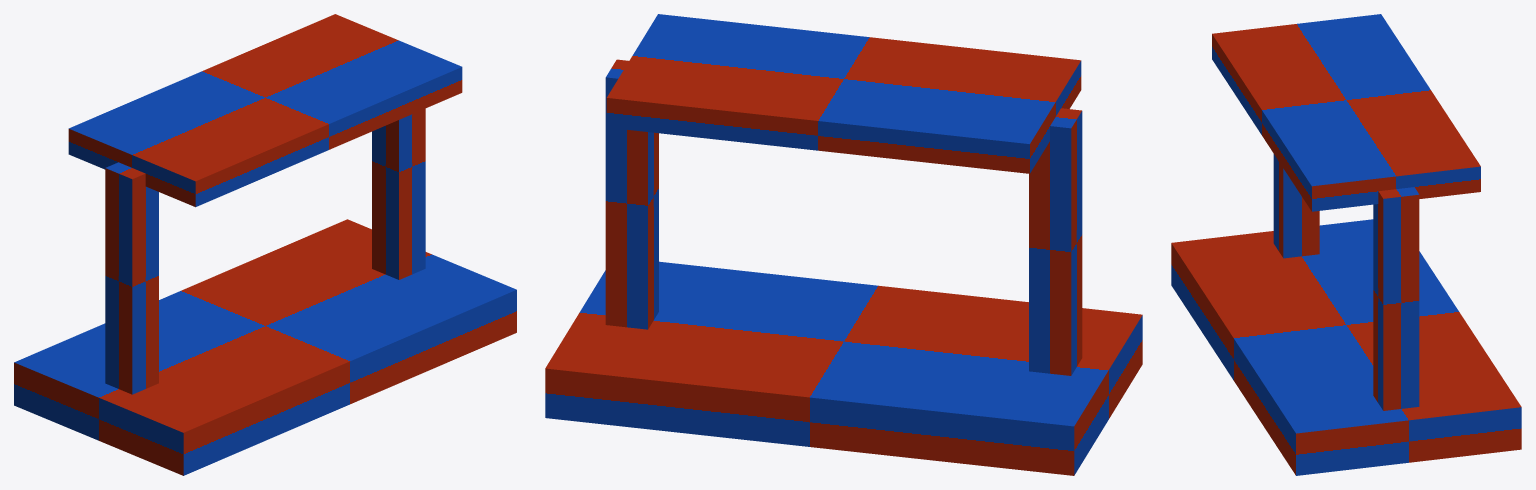
The model's file is assembly.glb.
The picture shows the model from 3 angles, left to right: view 1: azimuth 30°, elevation 25°; view 2: azimuth 150°, elevation 25°; view 3: azimuth 270°, elevation 25°; orthographic projection. The views are drawn at different scales.
Parts seen in each view (by area): view 1: Base, Lid, Post_A, Post_B; view 2: Base, Lid, Post_A, Post_B; view 3: Base, Lid, Post_B, Post_A.
Boxes of the visible parts, bbox=[...] form: Base: bbox=[14, 219, 516, 475]; Lid: bbox=[68, 14, 462, 207]; Post_A: bbox=[105, 162, 158, 394]; Post_B: bbox=[372, 108, 425, 279]; Base: bbox=[545, 261, 1142, 475]; Lid: bbox=[606, 14, 1081, 173]; Post_A: bbox=[1029, 108, 1082, 375]; Post_B: bbox=[605, 59, 658, 329]; Base: bbox=[1171, 219, 1521, 475]; Lid: bbox=[1212, 14, 1480, 211]; Post_B: bbox=[1373, 187, 1419, 410]; Post_A: bbox=[1273, 154, 1319, 258].
Bounding box in the file's own units: 2.19 × 1.26 × 1.5.
1 material, 1 textured.
